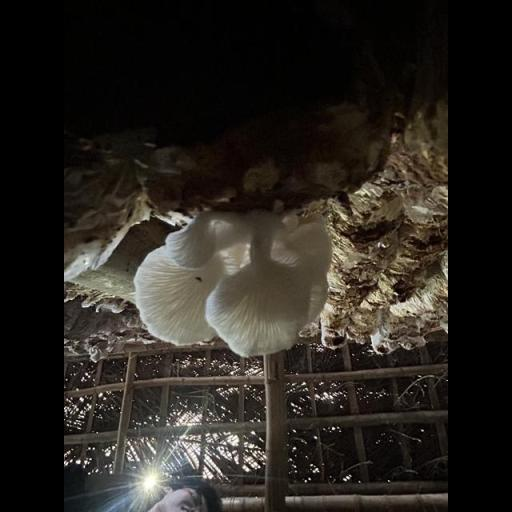White Oyster Mushroom: (130, 204, 336, 362)
